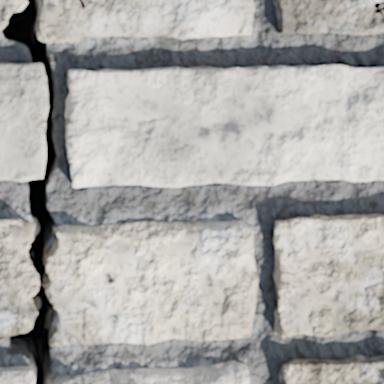brick: (66, 65, 383, 186), (273, 214, 383, 336), (0, 62, 47, 180), (273, 0, 383, 34), (278, 355, 383, 383)
broken_brick: (48, 219, 258, 347), (37, 0, 255, 43), (55, 360, 249, 383), (0, 216, 36, 337), (0, 0, 22, 28), (0, 365, 32, 383)
crack: (0, 0, 62, 383), (373, 1, 383, 20), (64, 40, 71, 43)
